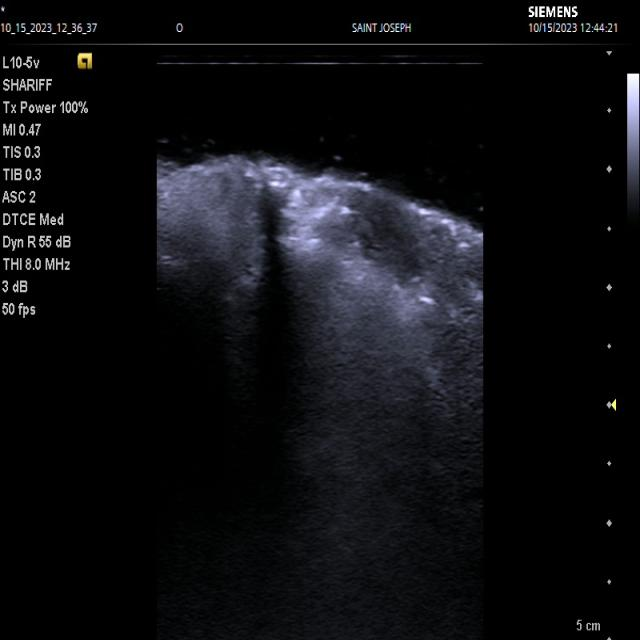tissue: (150, 157, 484, 640)
